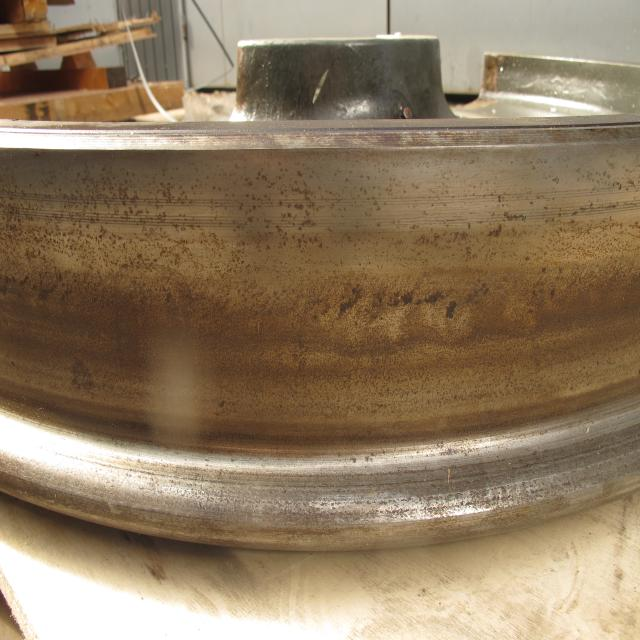Contact_Fatigue_Cracks: (400, 302, 456, 327), (327, 312, 373, 328)
